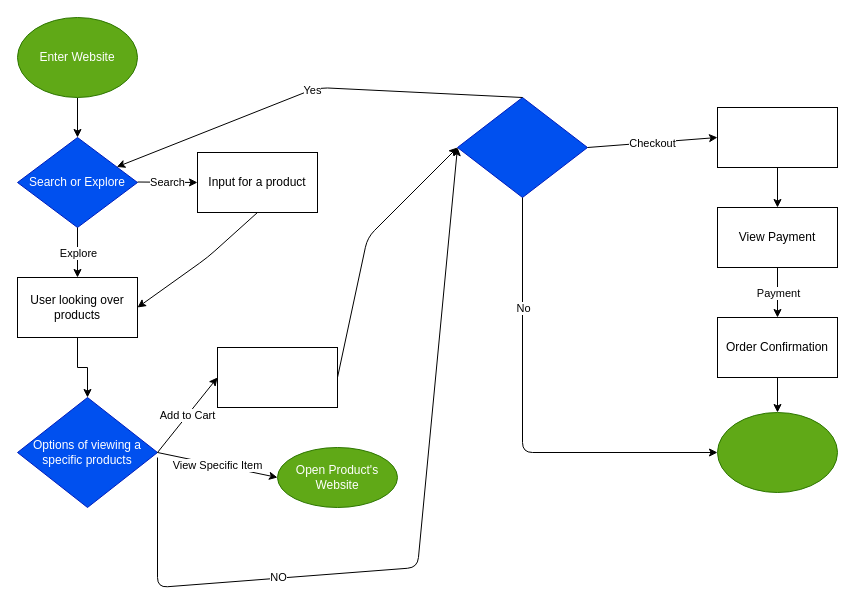
The diagram is 855 pixels wide and 613 high, and some of its shapes have lost their labels. Each missing label, with the centre of its shape:
Added to Cart Confirmation: [277,377]
Continue to Shop?: [522,147]
Leave Website: [777,452]
View Cart: [777,137]
